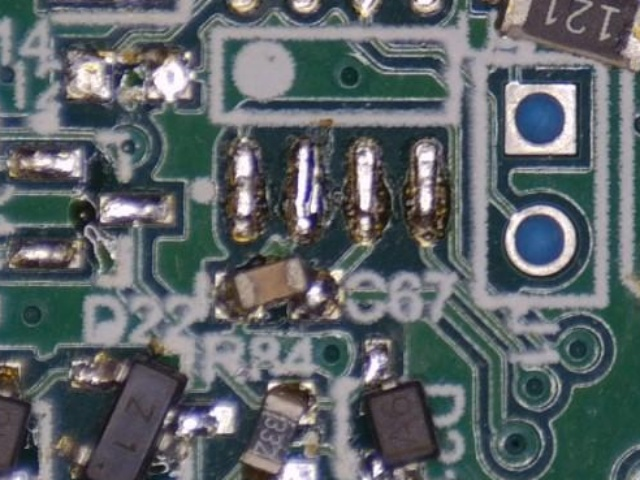pcb_defect: (54, 350, 238, 480), (357, 339, 442, 480), (213, 254, 342, 321), (239, 380, 319, 480), (0, 364, 35, 480)
